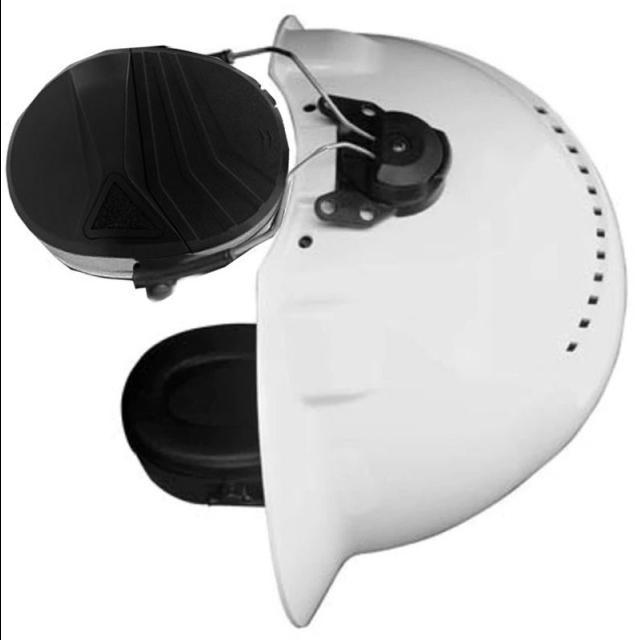safety_helmet: (1, 15, 626, 629)
